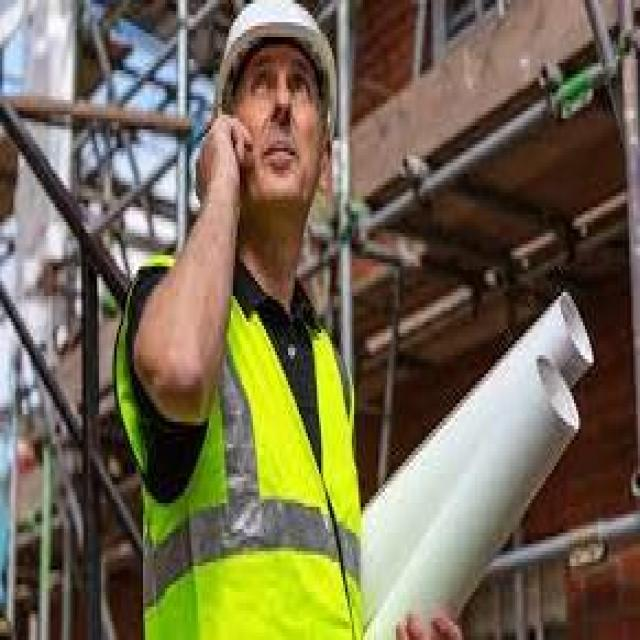Reflective-Jacket: (118, 270, 372, 636)
Safety-Helmet: (198, 0, 352, 111)
